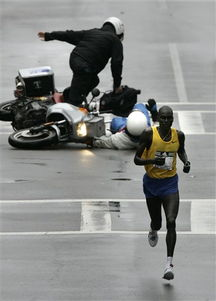fall: (78, 90, 161, 156)
